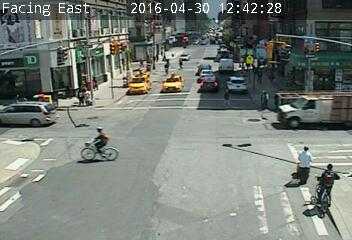neg: (89, 15, 114, 48), (267, 21, 291, 53), (138, 8, 160, 38), (322, 15, 344, 45), (22, 95, 43, 123), (307, 112, 325, 137), (247, 21, 264, 44), (159, 23, 175, 44), (185, 19, 201, 40), (31, 54, 46, 74), (116, 19, 131, 39), (321, 85, 336, 105), (281, 102, 296, 122), (212, 24, 226, 43), (292, 80, 306, 99), (13, 155, 26, 173), (37, 82, 50, 100), (65, 17, 78, 34), (297, 49, 310, 66), (298, 32, 310, 49), (319, 63, 331, 80), (251, 101, 263, 117), (35, 29, 44, 40)
pos: (308, 160, 343, 206), (291, 142, 320, 181), (89, 125, 111, 154), (257, 88, 274, 111), (218, 85, 235, 108), (72, 83, 87, 104), (87, 76, 102, 95), (254, 66, 269, 85), (266, 68, 277, 83), (162, 59, 172, 73), (176, 56, 184, 67)
